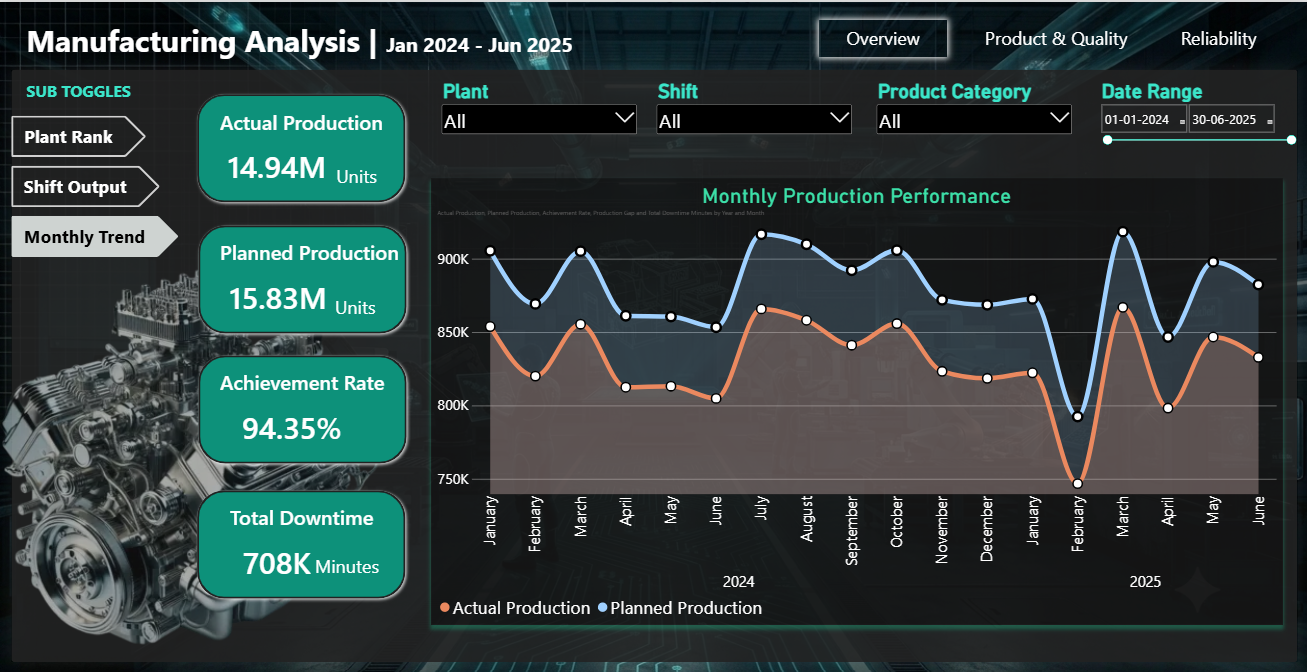

This screenshot's page, from the dashboard's own definition file:
{"tool":"powerbi","page":{"name":"Overview","canvas":[3500,1800],"ordinal":1},"visuals":[{"type":"textbox","box":[70,46.7,1483.3,133.3],"z":0},{"type":"shape","box":[30,180,3430,1580],"z":1000},{"type":"actionButton","title":"Overview on","box":[2183.3,46.7,343.3,100],"z":3000},{"type":"actionButton","title":"pro & qua off","box":[2553.3,46.7,526.7,100],"z":5000},{"type":"actionButton","title":"reliability off","box":[3080,46.7,340,100],"z":7000},{"type":"textbox","box":[70,206.7,320,96.7],"z":8000},{"type":"actionButton","title":"Plank rank off","box":[30,303.3,360,110],"z":10000},{"type":"actionButton","title":"Shift output off","box":[30,436.7,396.7,110],"z":12000},{"type":"image","box":[0,626.7,1023.3,1173.3],"z":13000},{"type":"actionButton","title":"Monthly trend on","box":[30,570,446.7,110],"z":14000},{"type":"shape","box":[517.3,582,580,313.3],"z":16000},{"type":"textbox","box":[587.3,628.7,510,80],"z":17000},{"type":"cardVisual","fields":{"Data":["production measures.Planned Production"]},"box":[587.3,708.7,310,150],"z":18000},{"type":"textbox","box":[893.3,780,253.3,80],"z":19000},{"type":"shape","box":[517.3,931.3,580,313.3],"z":20000},{"type":"textbox","box":[587.3,978,510,80],"z":21000},{"type":"cardVisual","fields":{"Data":["production measures.Achievement Rate"]},"box":[586.7,1056.7,383.3,150],"z":22000},{"type":"shape","box":[514.7,1288.7,580,313.3],"z":23000},{"type":"textbox","box":[613.3,1336.7,510,80],"z":24000},{"type":"cardVisual","fields":{"Data":["downtime_measures.Total Downtime Minutes"]},"box":[584.7,1415.3,310,150],"z":25000},{"type":"textbox","box":[841.3,1468.7,253.3,80],"z":26000},{"type":"shape","box":[513.3,233.3,580,313.3],"z":27000},{"type":"textbox","box":[586.7,283.3,480,80],"z":28000},{"type":"cardVisual","fields":{"Data":["production measures.Actual Production"]},"box":[563.3,360,350,150],"z":29000},{"type":"textbox","box":[896.7,430,253.3,80],"z":30000},{"type":"slicer","title":"Plant Slicer","fields":{"Values":["plants.plant_name"]},"box":[1173.3,206.7,530,153.3],"z":31000},{"type":"slicer","title":"Shift Slicer","fields":{"Values":["shifts.shift_name"]},"box":[1746.7,206.7,530,153.3],"z":32000},{"type":"slicer","title":"Product Slicer","fields":{"Values":["products.product_category"]},"box":[2333.3,206.7,530,153.3],"z":33000},{"type":"slicer","title":"Date Slicer","fields":{"Values":["production_records.production_date"]},"box":[2930,206.7,530,223.3],"z":34000},{"type":"lineChart","title":"Monthly Production Performance","fields":{"Y":["production measures.Actual Production","production measures.Planned Production"],"Category":["production_records.Month Date.Variation.Date Hierarchy.Year","production_records.Month Date.Variation.Date Hierarchy.Month"]},"box":[1150,470,2270,1190],"z":41000}]}

Visuals, with their boxes in screenshot pixels (x1, y1, x2, y2), scaled from the page's 3500x1800 canvas onto the 1307x672 screenshot:
textbox: locate(26, 17, 580, 67)
shape: locate(11, 67, 1292, 657)
"Overview on" actionButton: locate(815, 17, 944, 55)
"pro & qua off" actionButton: locate(953, 17, 1150, 55)
"reliability off" actionButton: locate(1150, 17, 1277, 55)
textbox: locate(26, 77, 146, 113)
"Plank rank off" actionButton: locate(11, 113, 146, 154)
"Shift output off" actionButton: locate(11, 163, 159, 204)
image: locate(0, 234, 382, 671)
"Monthly trend on" actionButton: locate(11, 213, 178, 254)
shape: locate(193, 217, 410, 334)
textbox: locate(219, 235, 410, 265)
cardVisual - production measures.Planned Production: locate(219, 265, 335, 321)
textbox: locate(334, 291, 428, 321)
shape: locate(193, 348, 410, 465)
textbox: locate(219, 365, 410, 395)
cardVisual - production measures.Achievement Rate: locate(219, 395, 362, 451)
shape: locate(192, 481, 409, 598)
textbox: locate(229, 499, 419, 529)
cardVisual - downtime_measures.Total Downtime Minutes: locate(218, 528, 334, 584)
textbox: locate(314, 548, 409, 578)
shape: locate(192, 87, 408, 204)
textbox: locate(219, 106, 398, 136)
cardVisual - production measures.Actual Production: locate(210, 134, 341, 190)
textbox: locate(335, 161, 429, 190)
"Plant Slicer" slicer: locate(438, 77, 636, 134)
"Shift Slicer" slicer: locate(652, 77, 850, 134)
"Product Slicer" slicer: locate(871, 77, 1069, 134)
"Date Slicer" slicer: locate(1094, 77, 1292, 161)
"Monthly Production Performance" lineChart: locate(429, 175, 1277, 620)
